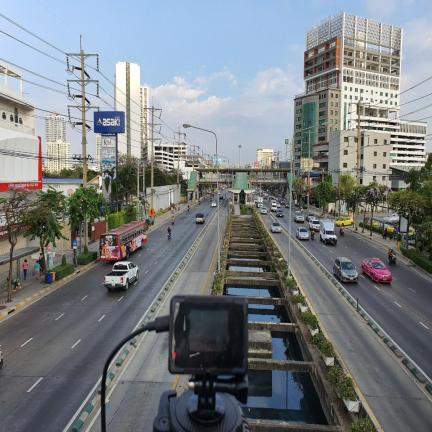bus: (100, 221, 146, 260)
car: (333, 257, 358, 281), (296, 227, 309, 239), (308, 219, 319, 231), (294, 211, 304, 222), (271, 222, 281, 231), (305, 212, 315, 221)
human: (34, 260, 40, 279), (34, 261, 40, 279), (23, 259, 28, 280), (39, 253, 44, 274), (39, 258, 44, 274), (389, 249, 395, 260), (388, 231, 393, 241), (383, 228, 387, 239), (418, 240, 422, 251), (340, 226, 344, 235), (108, 239, 113, 246), (311, 228, 314, 239), (168, 226, 171, 237), (168, 226, 171, 233), (105, 240, 108, 247), (172, 216, 174, 224), (331, 209, 333, 216), (178, 204, 180, 210), (175, 205, 177, 210), (172, 207, 173, 214), (188, 205, 189, 211), (199, 199, 200, 204)
motorbike: (388, 255, 396, 266), (340, 230, 345, 236), (167, 232, 171, 239), (311, 230, 314, 239), (171, 219, 174, 225), (188, 205, 189, 212)
pickup: (104, 261, 138, 290), (196, 213, 205, 223)
taxi: (361, 258, 392, 282), (335, 217, 353, 226)
truck: (320, 220, 337, 244)
